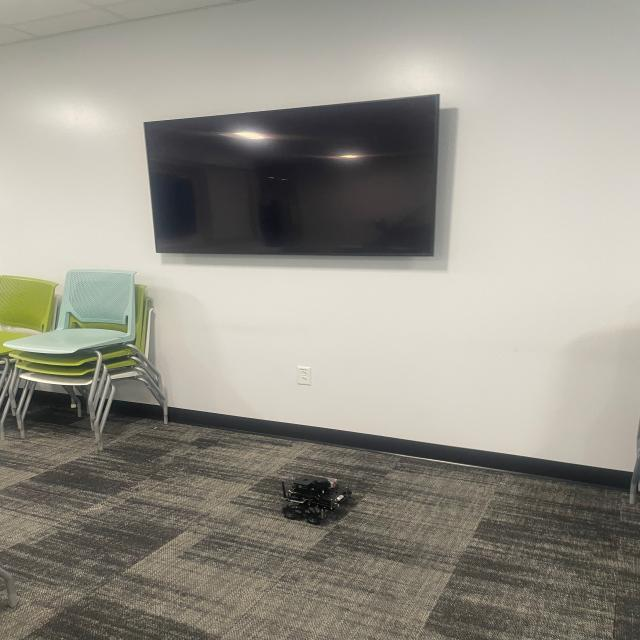ArduinoCar: (279, 472, 356, 524)
